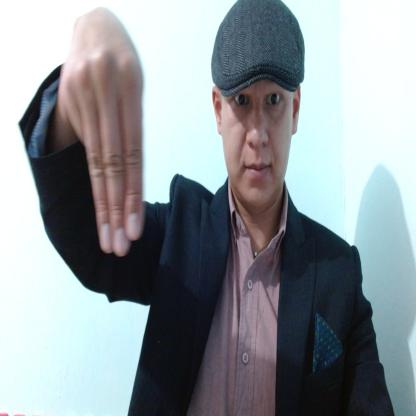M: (64, 11, 146, 257)
